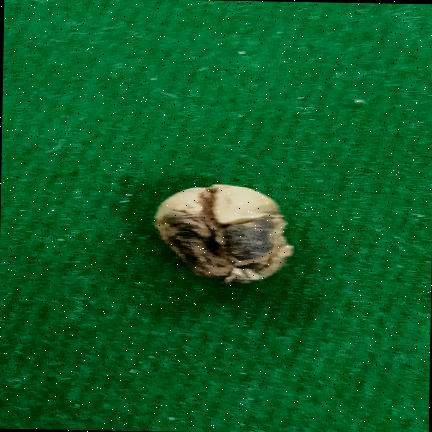partial-black: (155, 184, 293, 283)
